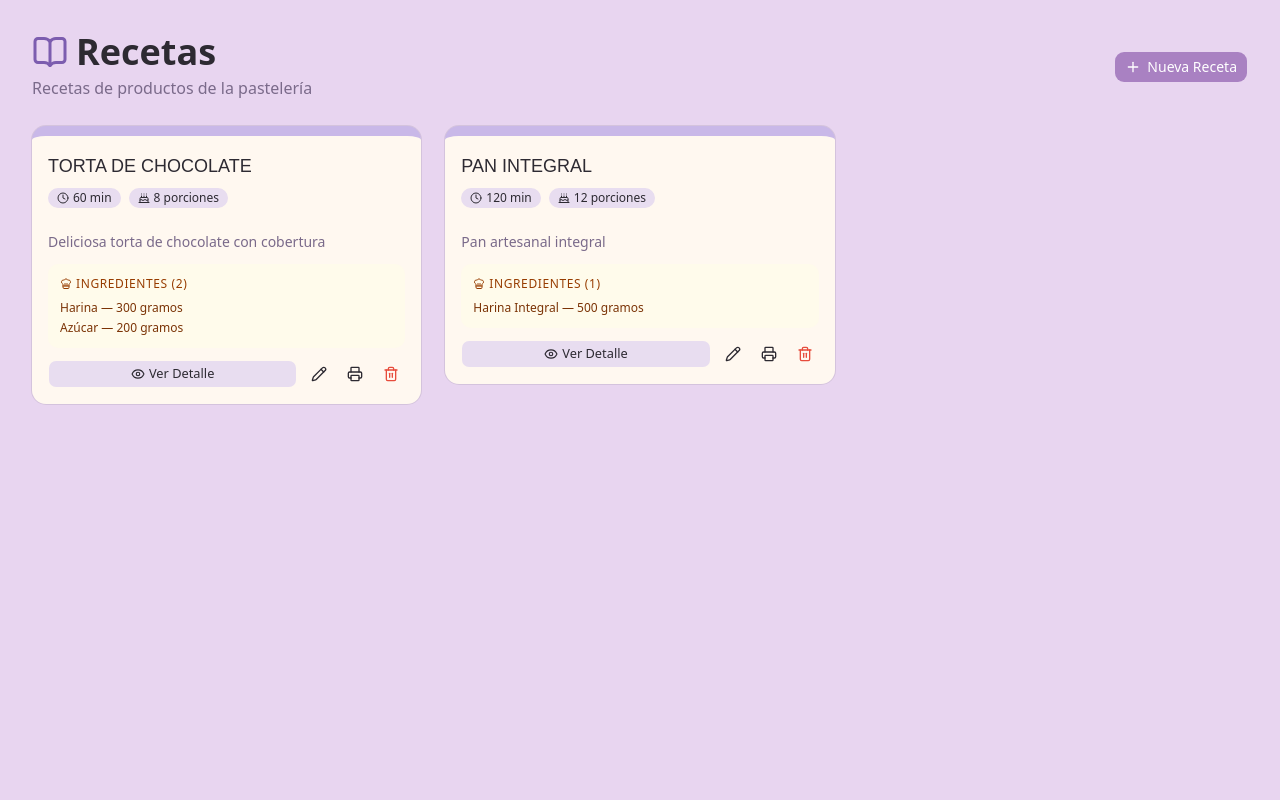
it: Recetas Component › opens dialog with "Editar Receta" title on edit click
Expected: the text "Torta de Chocolate" is shown, [48,156,252,176]
Click the button titled "Editar" below "Azúcar" at (319, 374), box [305,360,333,388]
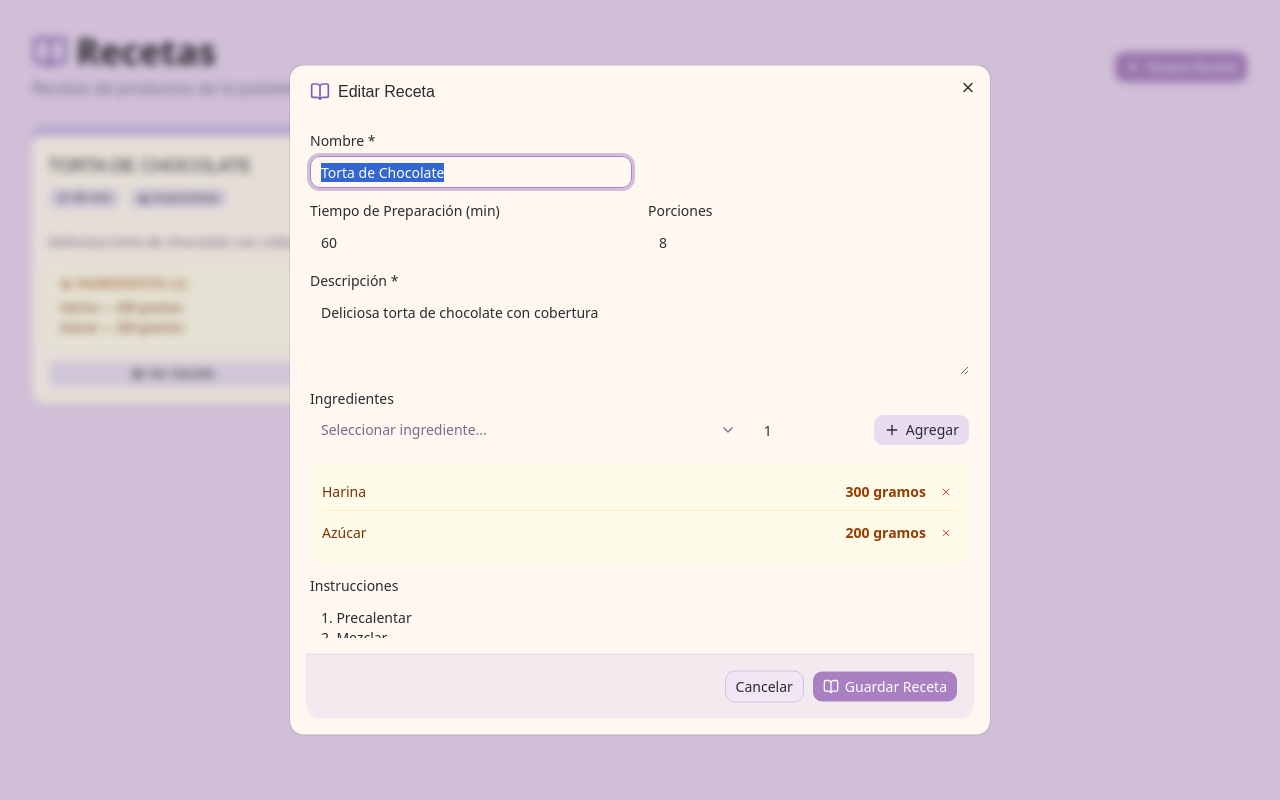
Expected: the heading "Editar Receta" is shown, [310,82,435,102]
